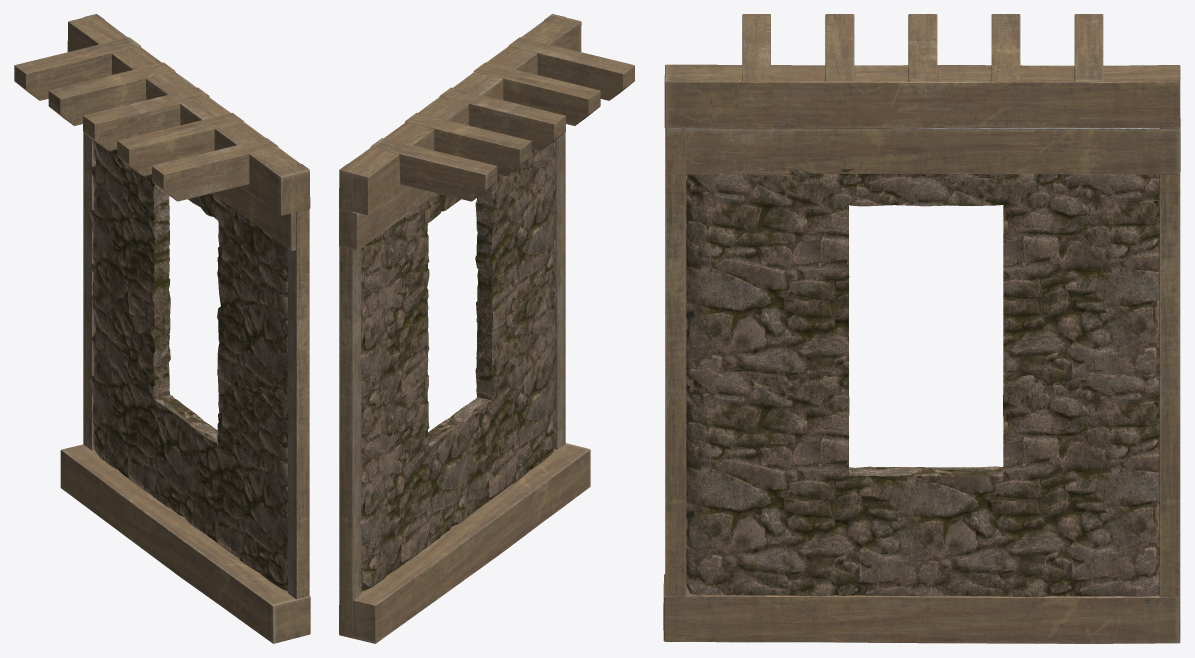
File: SM_Wall-Stone-B.fbx
The picture shows the model from 3 angles, left to right: view 1: azimuth 30°, elevation 25°; view 2: azimuth 150°, elevation 25°; view 3: azimuth 270°, elevation 25°; orthographic projection. The views are drawn at different scales.
Parts seen in each view (by area): view 1: SM_Wall-Stone-B_LOD0; view 2: SM_Wall-Stone-B_LOD0; view 3: SM_Wall-Stone-B_LOD0.
Boxes of the visible parts, x1,y1,x2,y2 form: SM_Wall-Stone-B_LOD0: [14, 14, 310, 643]; SM_Wall-Stone-B_LOD0: [339, 14, 634, 643]; SM_Wall-Stone-B_LOD0: [663, 14, 1180, 643].
Size of the model in its own units: 78.89 by 251 by 301.
Materials: 3 (2 with a texture image).
